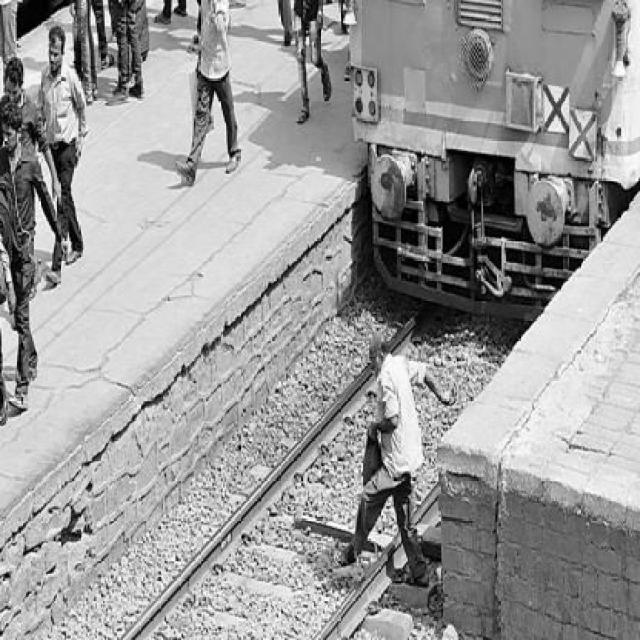obstacle: (355, 328, 433, 592)
